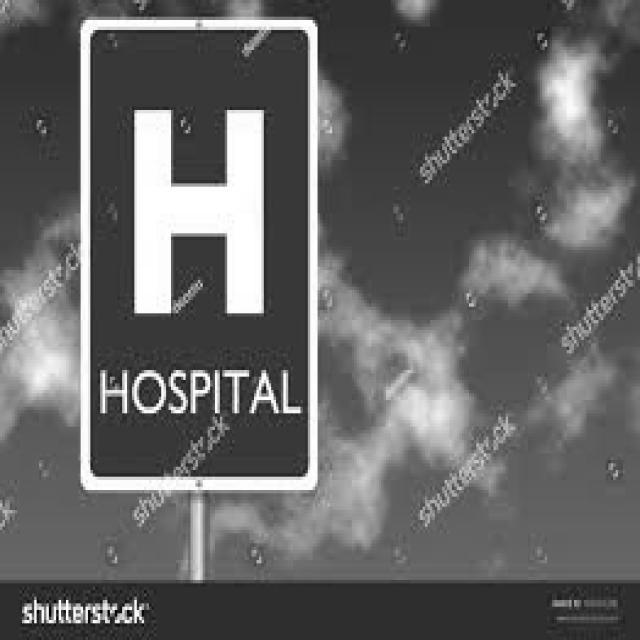hospital ahead: (102, 90, 294, 332)
